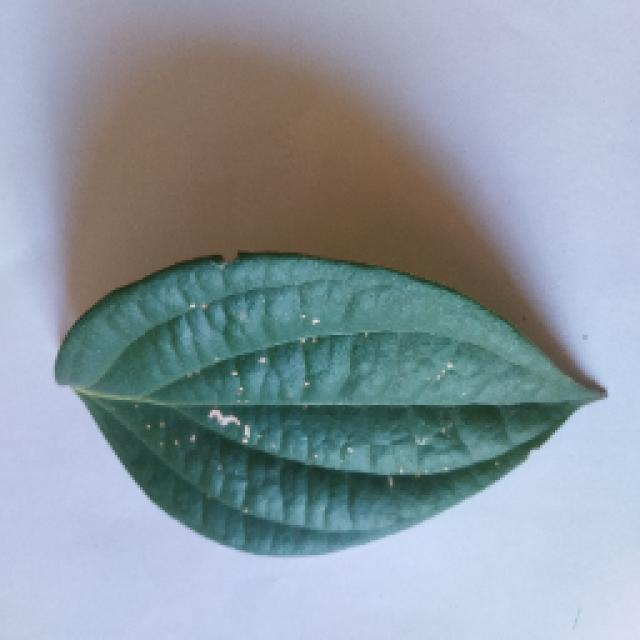pollu-disease: (50, 245, 602, 557)
